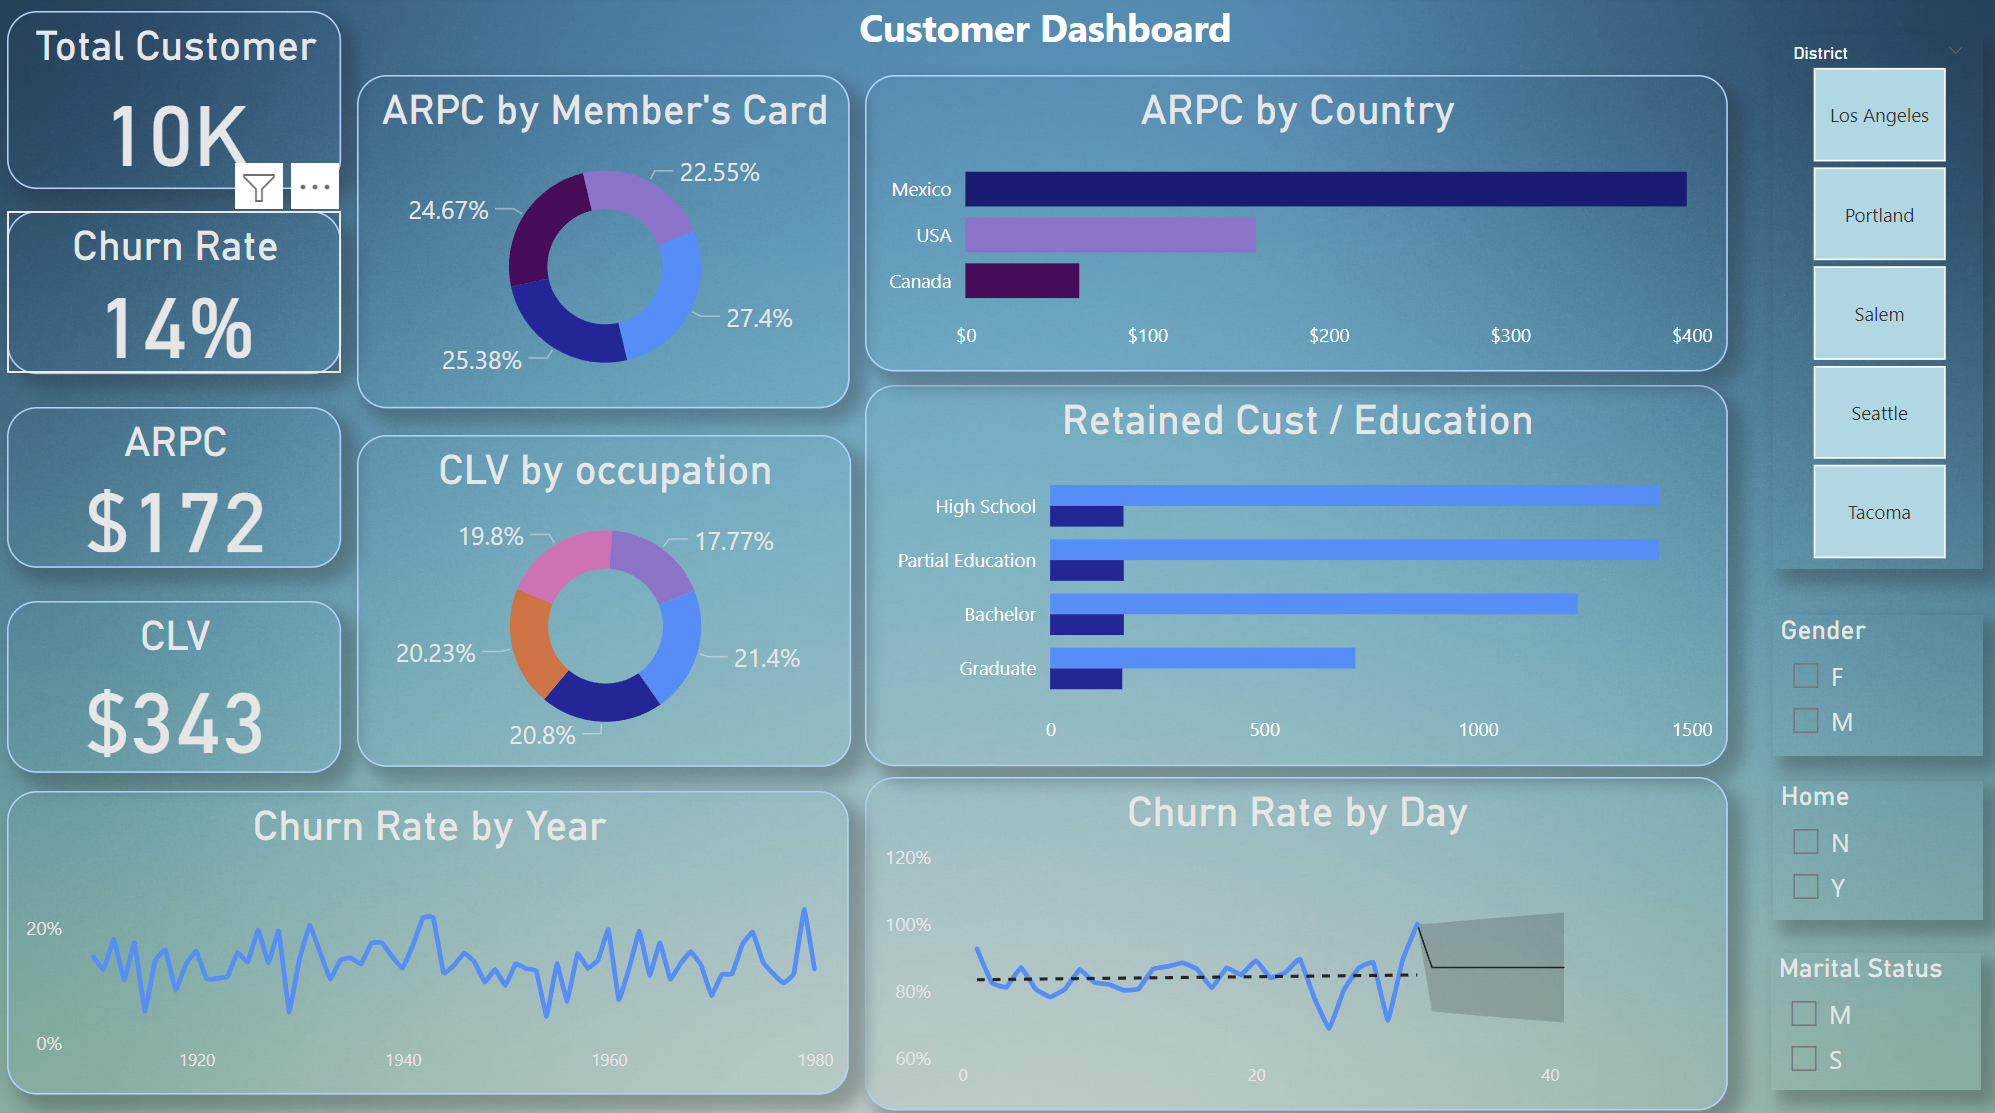

The dashboard page shown, as its layout file describes it:
{"tool":"powerbi","page":{"name":"Customer Dashboard","canvas":[1280,720],"ordinal":1},"visuals":[{"type":"card","title":"Total Customer ","fields":{"Values":["Customer's Measures.Total Customer"]},"box":[9.6,11,213.1,113.5],"z":0},{"type":"card","title":"Churn Rate","fields":{"Values":["Customer's Measures.Churn Rate"]},"box":[9.6,138.3,213.1,103.8],"z":1000},{"type":"card","title":"ARPC","fields":{"Values":["Customer's Measures.ARPC"]},"box":[9.6,264.3,213.1,102.4],"z":2000},{"type":"card","title":"CLV","fields":{"Values":["Customer's Measures.CLV"]},"box":[10.2,386.9,212.9,109.6],"z":3000},{"type":"donutChart","title":"ARPC by Member''s Card","fields":{"Category":["Customers.member_card"],"Y":["Customer's Measures.ARPC"]},"box":[232.7,52.4,314.2,212.4],"z":4000},{"type":"donutChart","fields":{"Y":["Customer's Measures.CLV"],"Category":["Customers.occupation"]},"box":[233.3,281.8,314.9,211.6],"z":5000},{"type":"clusteredBarChart","title":"Retained Cust / Education","fields":{"Category":["Customers.Education_"],"Y":["Customer's Measures.Retained_Customers_1998","Customer's Measures.ARPC"]},"box":[557.1,250.2,549.8,242.9],"z":6000},{"type":"lineChart","fields":{"Category":["Calendar.Date.Variation.Date Hierarchy.Year","Calendar.Date.Variation.Date Hierarchy.Quarter","Calendar.Date.Variation.Date Hierarchy.Month","Calendar.Date.Variation.Date Hierarchy.Day"],"Y":["Customer's Measures.Churn Rate"]},"box":[557.1,500.4,549.8,212.4],"z":7000},{"type":"lineChart","title":"Churn Rate by Year","fields":{"Category":["Customers.Birthdate.Variation.Date Hierarchy.Year","Customers.Birthdate.Variation.Date Hierarchy.Quarter","Customers.Birthdate.Variation.Date Hierarchy.Month","Customers.Birthdate.Variation.Date Hierarchy.Day"],"Y":["Customer's Measures.Churn Rate"]},"box":[10.2,509.1,536.7,193.5],"z":8000},{"type":"slicer","title":"Gender","fields":{"Values":["Customers.gender"]},"box":[1136,397.1,133.8,90.2],"z":9000},{"type":"slicer","title":"Home","fields":{"Values":["Customers.homeowner"]},"box":[1136,501.8,133.8,88.7],"z":10000},{"type":"slicer","title":"Marital Status","fields":{"Values":["Customers.marital_status"]},"box":[1135.3,611.6,133.8,87.3],"z":11000},{"type":"barChart","title":"ARPC by Country","fields":{"Y":["Customer's Measures.ARPC"],"Category":["Customers.customer_country"]},"box":[557.1,52.4,549.8,189.1],"z":12000},{"type":"slicer","fields":{"Values":["Regions.sales_district"]},"box":[1136,26.2,133.8,340.4],"z":12001},{"type":"textbox","box":[247.3,0,849.5,46.5],"z":12002}]}

Visuals, with their boxes in screenshot pixels (x1, y1, x2, y2), scaled from the page's 1280x720 canvas onto the 1995x1113 screenshot:
"Total Customer " card: (15, 17, 347, 192)
"Churn Rate" card: (15, 214, 347, 374)
"ARPC" card: (15, 409, 347, 567)
"CLV" card: (16, 598, 348, 768)
"ARPC by Member''s Card" donutChart: (363, 81, 852, 409)
donutChart - Customer's Measures.CLV x Customers.occupation: (364, 436, 854, 763)
"Retained Cust / Education" clusteredBarChart: (868, 387, 1725, 762)
lineChart - Calendar.Date.Variation.Date Hierarchy.Year x Calendar.Date.Variation.Date Hierarchy.Quarter: (868, 774, 1725, 1102)
"Churn Rate by Year" lineChart: (16, 787, 852, 1086)
"Gender" slicer: (1771, 614, 1979, 753)
"Home" slicer: (1771, 776, 1979, 913)
"Marital Status" slicer: (1769, 945, 1978, 1080)
"ARPC by Country" barChart: (868, 81, 1725, 373)
slicer - Regions.sales_district: (1771, 41, 1979, 567)
textbox: (385, 0, 1709, 72)
